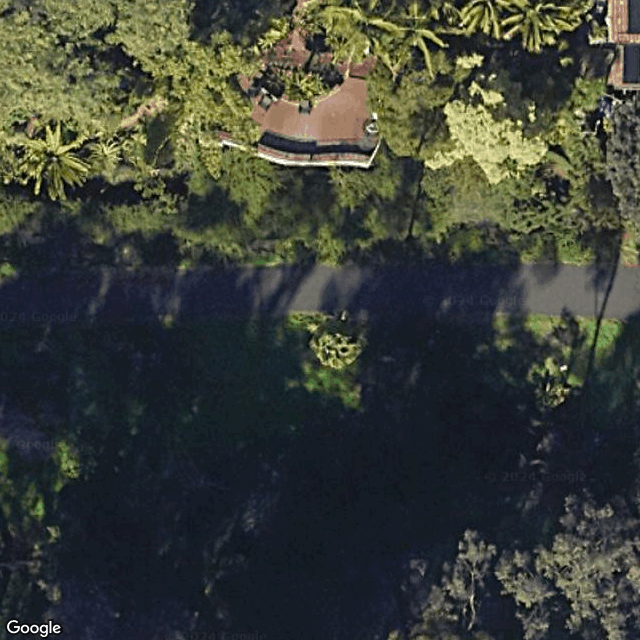palm: (10, 120, 101, 206)
